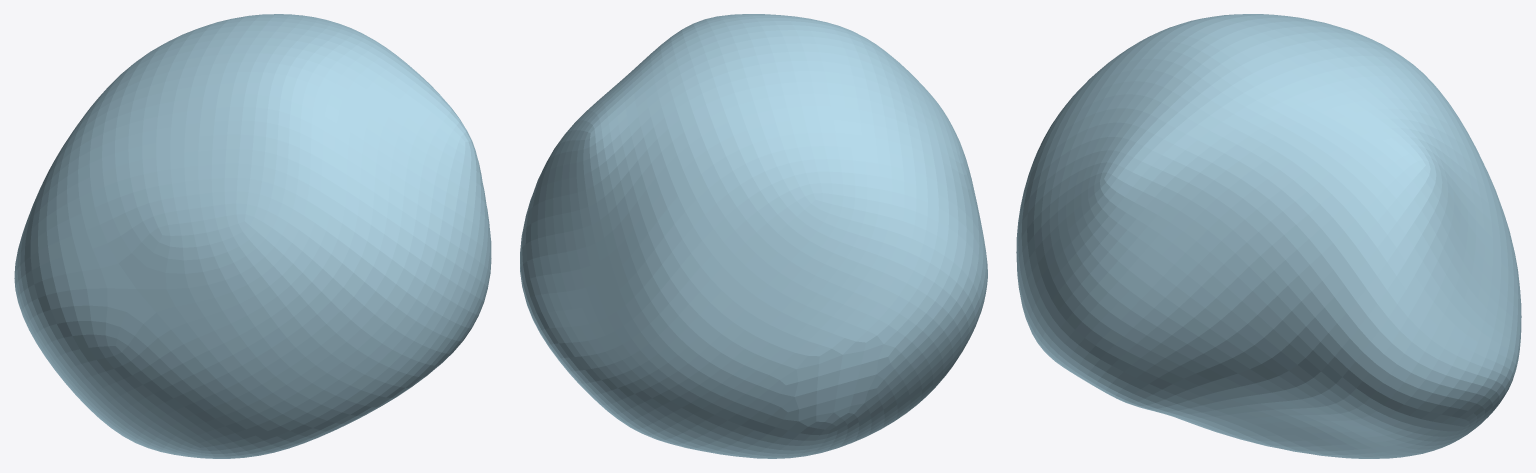
Rendered from stone2.gltf.
3 renders of one model, left to right at view 1: azimuth 30°, elevation 25°; view 2: azimuth 150°, elevation 25°; view 3: azimuth 270°, elevation 25°, orthographic. The views are drawn at different scales.
Parts seen in each view (by area): view 1: Cube; view 2: Cube; view 3: Cube.
Part boxes in pixels (box(x1,y1,x2,y2)): Cube: box(14, 14, 491, 458); Cube: box(520, 14, 987, 458); Cube: box(1016, 14, 1521, 458).
Size of the model in its own units: 1.64 by 1.48 by 1.6.
